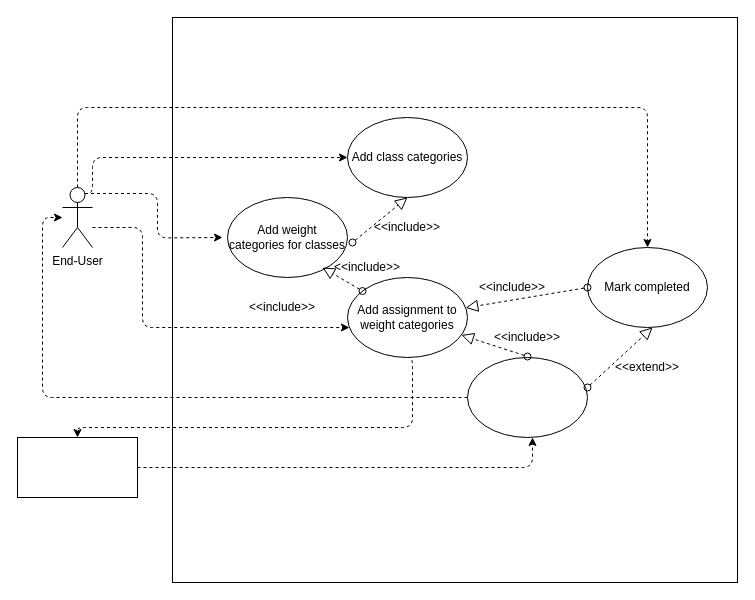
Image size: 755x600. Some labels were removed from this diagram. The box of each missing label's shape, as (x1, y1, x2, y2) in pixels:
<<actor>> Assignment algorithm: (16, 436, 138, 498)
Display optimal order of completion: (466, 356, 588, 438)
